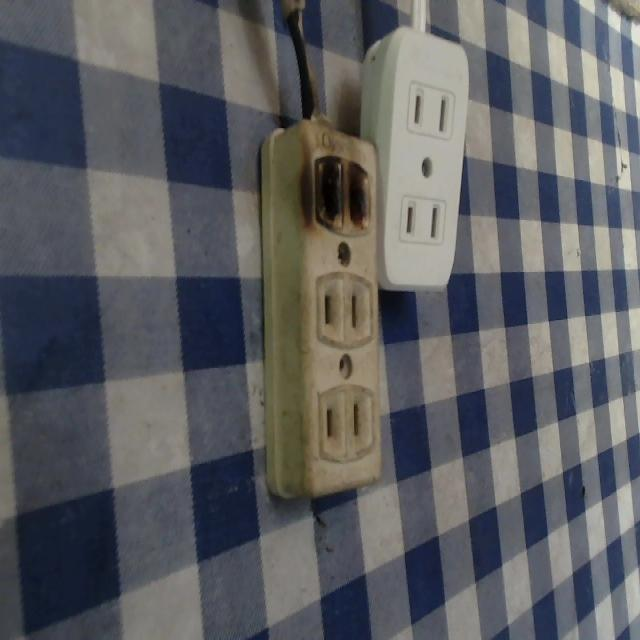-: (305, 144, 378, 232)
